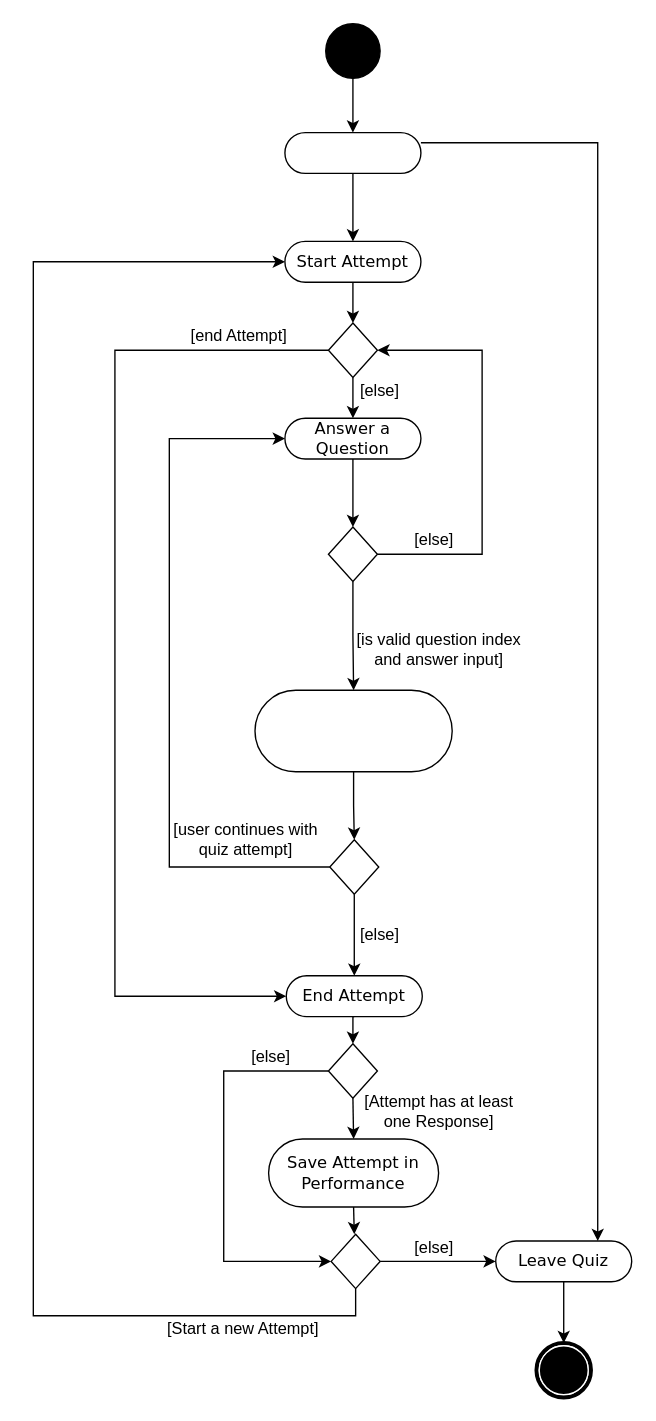
The diagram is 656 pixels wide and 1421 high, and some of its shapes have lost their labels. Here are the shapes that lost their labels. From the top down, the centre of each, then its label:
At point (352, 152): "Enter Quiz".
At point (353, 730): "Response recorded in current Attempt".
